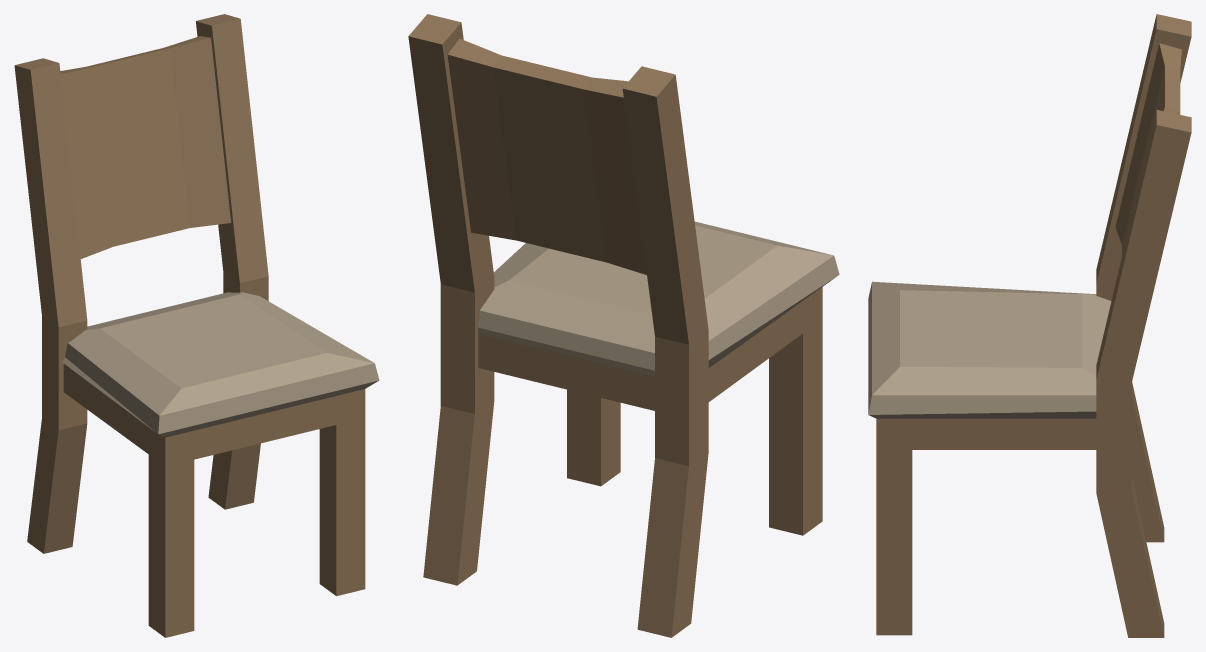
File: chair.glb
3 renders of one model, left to right at view 1: azimuth 30°, elevation 25°; view 2: azimuth 150°, elevation 25°; view 3: azimuth 270°, elevation 25°, orthographic. The views are drawn at different scales.
Parts seen in each view (by area): view 1: SM_Prop_DiningChair_01; view 2: SM_Prop_DiningChair_01; view 3: SM_Prop_DiningChair_01.
Boxes of the visible parts, x1,y1,x2,y2 form: SM_Prop_DiningChair_01: (14,14,379,637); SM_Prop_DiningChair_01: (408,14,839,637); SM_Prop_DiningChair_01: (868,14,1191,637).
Bounding box in the file's own units: 0.5536 × 1.13 × 0.6475.
Materials: 1 (1 with a texture image).
